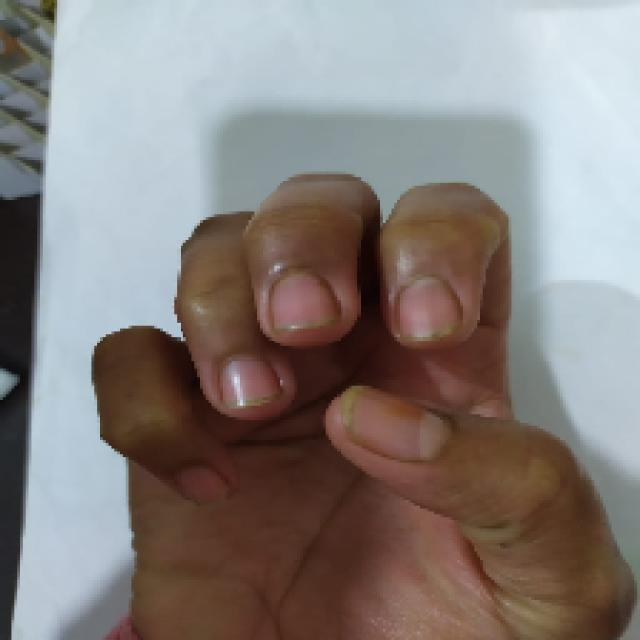Nail: (341, 386, 451, 461), (396, 276, 461, 341), (270, 270, 339, 331), (220, 355, 281, 409), (178, 467, 230, 508)
